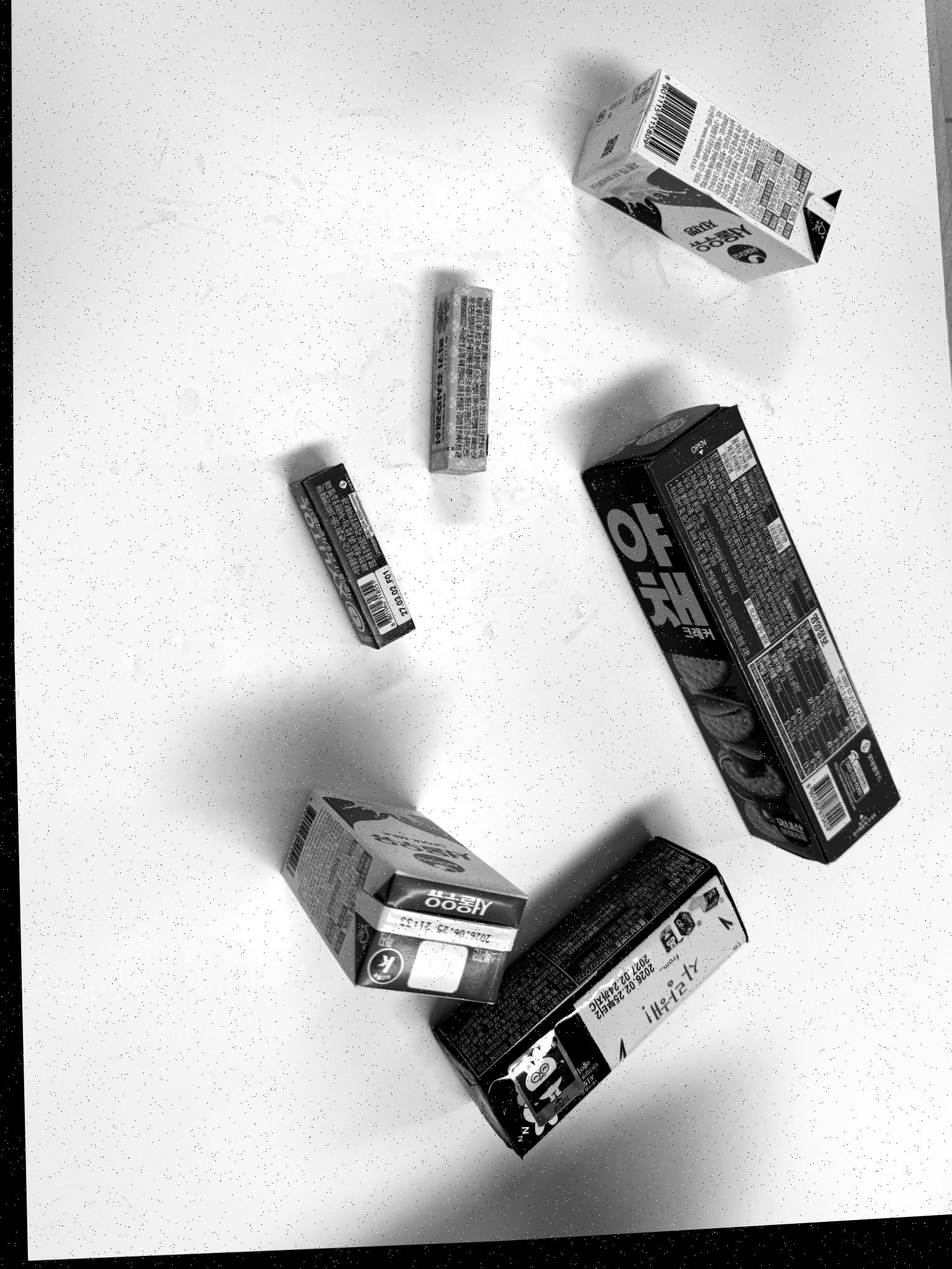cracker_ace: (434, 834, 749, 1155)
cracker_vege: (582, 405, 897, 861)
gum_green: (289, 463, 416, 650)
gum_yellow: (428, 284, 490, 478)
milk_blue: (569, 73, 844, 284)
milk_green: (277, 792, 524, 1005)
